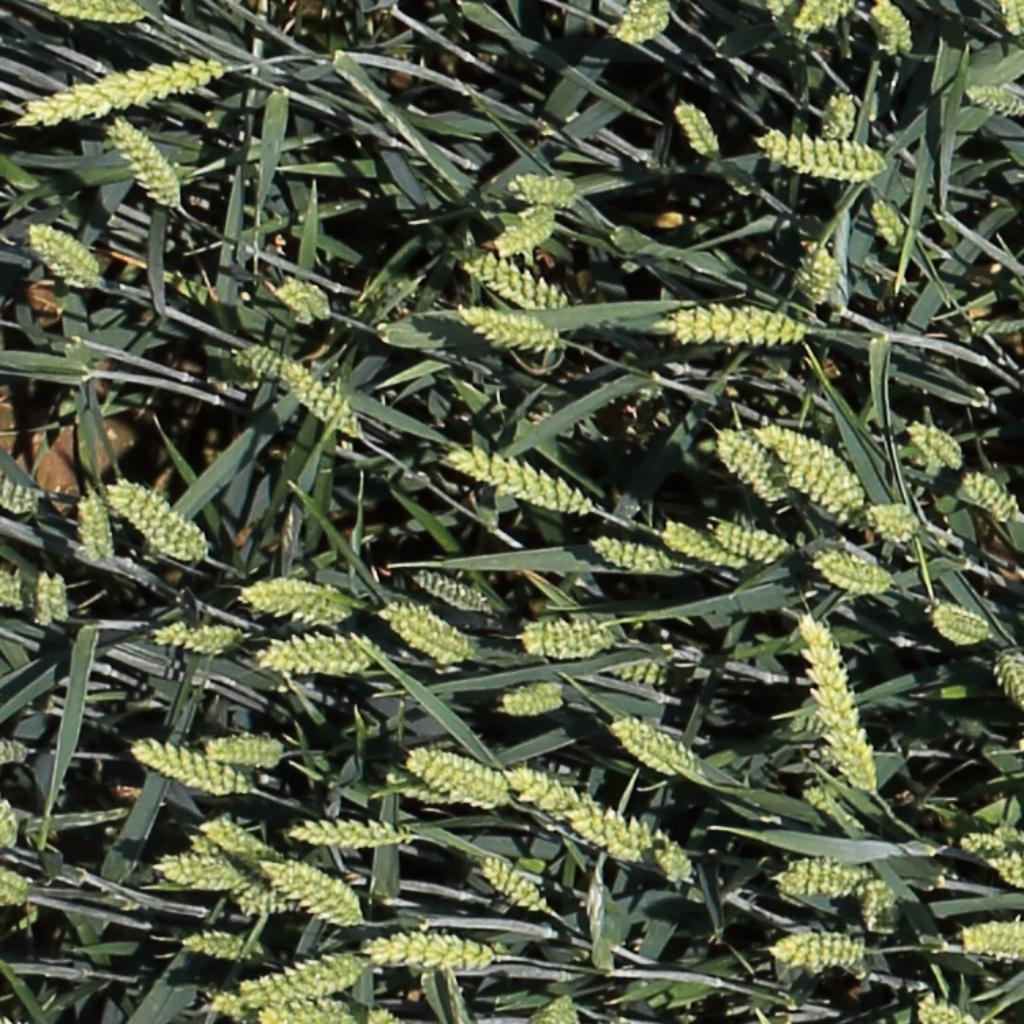0-0: (787, 610, 876, 798), (11, 57, 224, 129), (504, 762, 657, 858), (755, 424, 875, 523), (241, 344, 361, 439), (443, 449, 598, 521), (103, 480, 202, 561), (640, 305, 806, 352), (103, 111, 181, 210), (237, 949, 364, 1006), (378, 601, 476, 674), (755, 133, 889, 185), (233, 573, 358, 627), (256, 864, 363, 927), (126, 741, 244, 797), (404, 750, 511, 811), (456, 248, 563, 309), (365, 931, 499, 977), (457, 308, 570, 359), (255, 630, 383, 675), (611, 720, 697, 785), (712, 427, 782, 501), (27, 225, 105, 289), (766, 929, 865, 978), (788, 238, 848, 317), (409, 569, 501, 620), (153, 854, 259, 897), (521, 615, 620, 661), (769, 856, 868, 901), (196, 818, 285, 864), (283, 821, 417, 851), (477, 858, 546, 916), (585, 536, 678, 578), (963, 824, 1024, 886), (711, 522, 795, 567), (490, 203, 561, 256), (804, 785, 869, 842), (669, 94, 722, 163), (659, 524, 744, 567), (852, 874, 910, 937), (149, 618, 242, 654), (958, 469, 1018, 522), (73, 487, 111, 566), (812, 555, 891, 593), (903, 421, 965, 469), (202, 739, 286, 774), (278, 277, 334, 329), (927, 601, 990, 647), (957, 919, 1024, 961), (865, 191, 910, 253), (41, 0, 151, 25), (509, 171, 582, 207), (497, 681, 566, 719), (868, 0, 913, 57), (610, 0, 665, 44), (821, 84, 860, 146), (172, 934, 258, 962), (253, 1001, 357, 1024), (989, 649, 1024, 715), (863, 506, 922, 544), (657, 836, 697, 888), (49, 572, 77, 635), (969, 85, 1024, 115), (795, 1, 843, 35), (32, 567, 56, 634), (1, 480, 39, 513), (612, 663, 668, 683), (919, 1004, 969, 1024), (1003, 0, 1024, 40)
